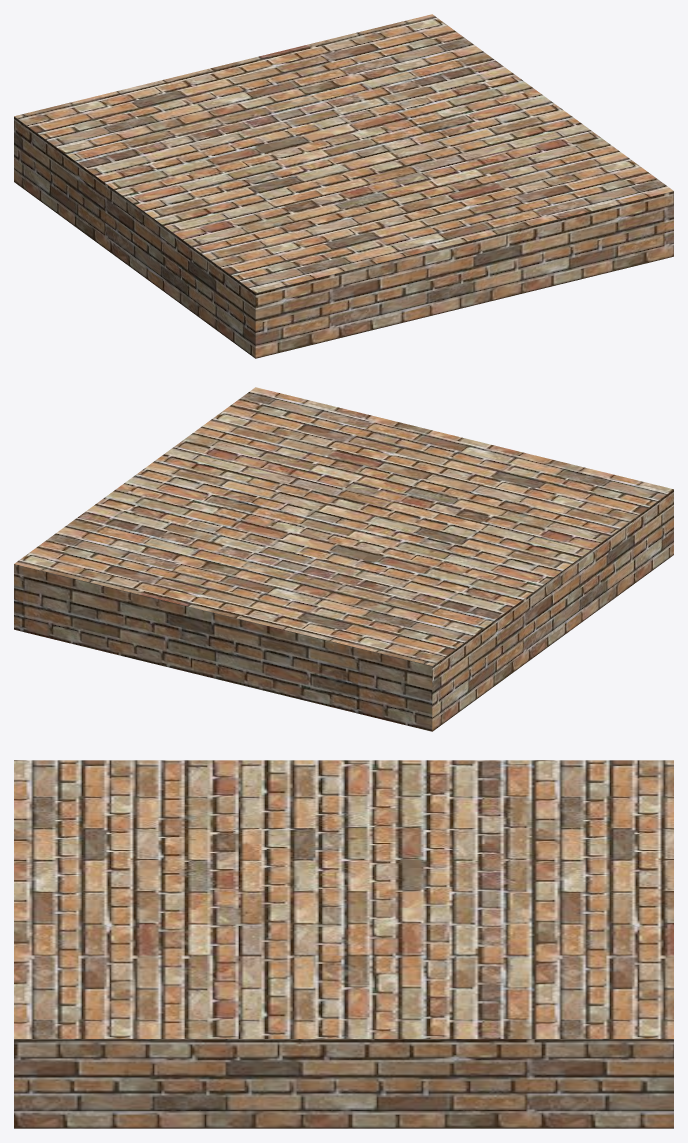
File: tower_U2.fbx
The picture shows the model from 3 angles, top to bottom: view 1: azimuth 30°, elevation 25°; view 2: azimuth 150°, elevation 25°; view 3: azimuth 270°, elevation 25°; orthographic projection. The views are drawn at different scales.
Parts seen in each view (by area): view 1: pCube1; view 2: pCube1; view 3: pCube1.
Boxes of the visible parts, x1,y1,x2,y2 form: pCube1: (14,14,673,358); pCube1: (14,387,673,731); pCube1: (14,760,673,1128).
Size of the model in its own units: 20 by 3 by 20.
Materials: 2 (2 with a texture image).
